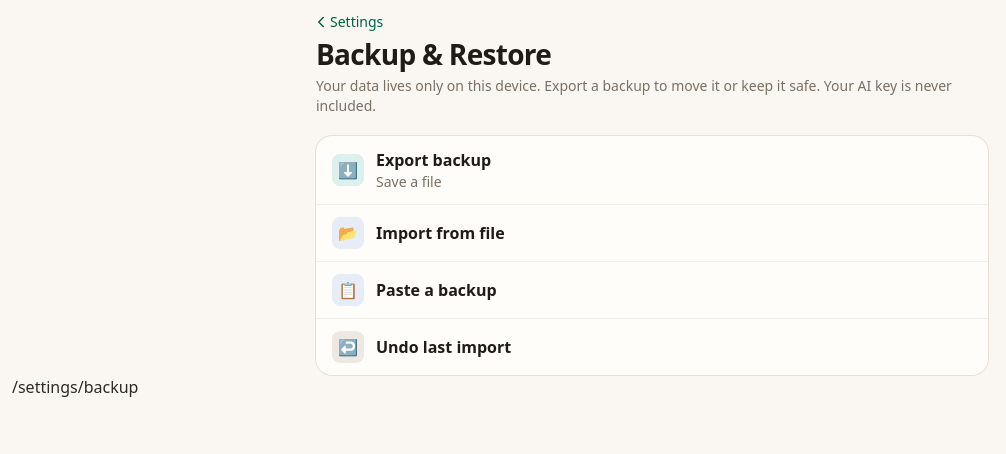
Test: Backup & Restore page › exports a backup file
Click the button "⬇️ Export backup Save a file".
click(348, 170)  # box [316, 136, 988, 204]
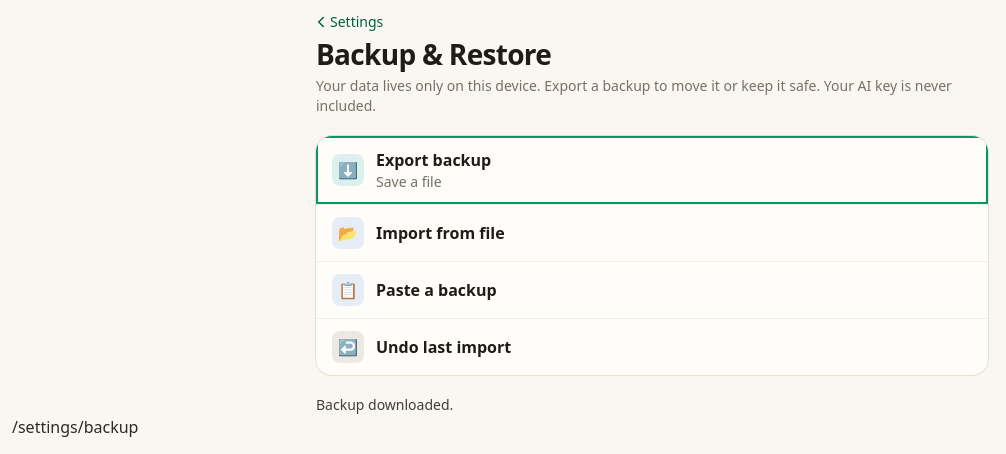
Expected: the text "Backup downloaded." is shown, [316, 395, 453, 414]
